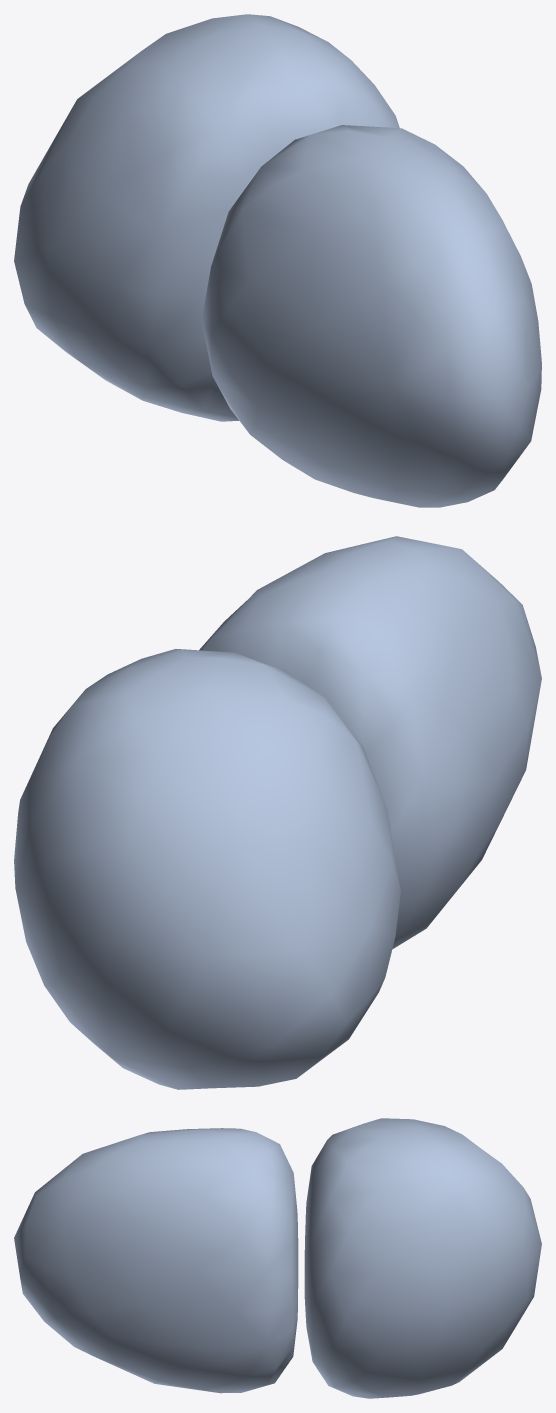
The picture shows the model from 3 angles, top to bottom: view 1: azimuth 30°, elevation 25°; view 2: azimuth 150°, elevation 25°; view 3: azimuth 270°, elevation 25°; orthographic projection. The views are drawn at different scales.
Parts seen in each view (by area): view 1: 右侧筛骨前群小房; view 2: 右侧筛骨前群小房; view 3: 右侧筛骨前群小房.
Boxes of the visible parts, x1,y1,x2,y2 form: 右侧筛骨前群小房: [14, 14, 541, 507]; 右侧筛骨前群小房: [14, 536, 541, 1089]; 右侧筛骨前群小房: [14, 1118, 541, 1398].
Bounding box in the file's own units: 0.0106 × 0.0113 × 0.0209.
